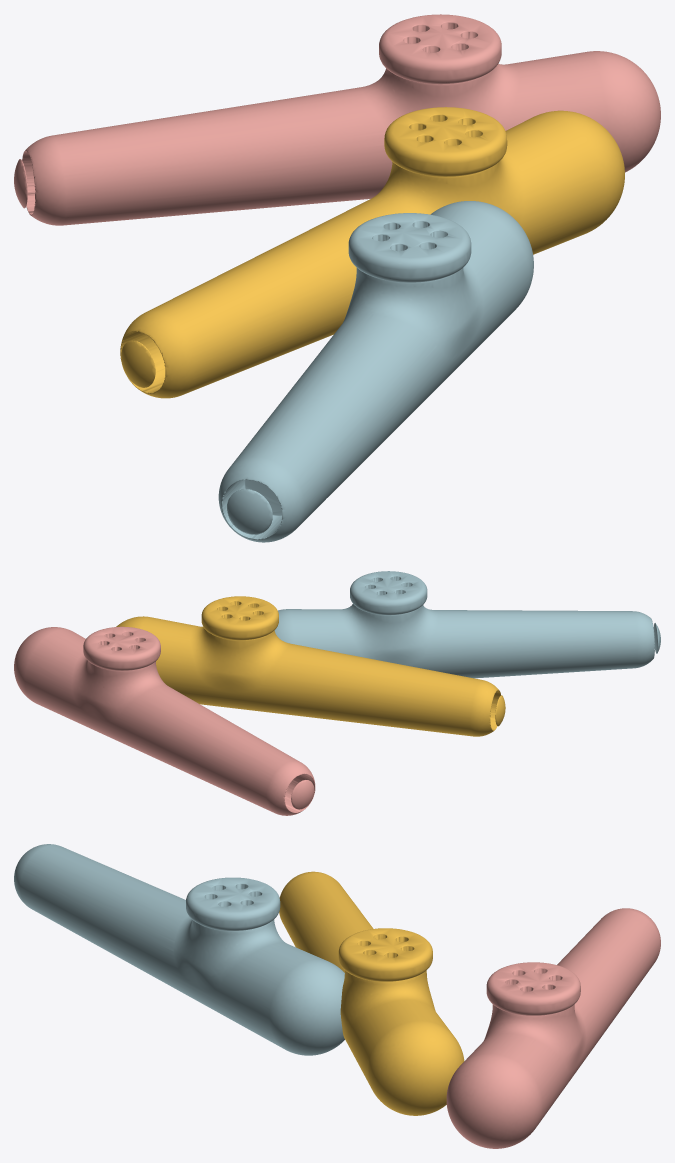
Rendered from voice-memo.glb.
3 views of the same model, one above another, from view 1: azimuth 30°, elevation 25°; view 2: azimuth 150°, elevation 25°; view 3: azimuth 270°, elevation 25° (orthographic). The views are drawn at different scales.
Visible parts, largest first — view 1: vm1-body, vm0-body, vm2-body; view 2: vm0-body, vm1-body, vm2-body; view 3: vm2-body, vm1-body, vm0-body.
Part boxes in pixels (left/top/right/bottom): vm1-body: left=14, top=14, right=660, bottom=225; vm0-body: left=120, top=107, right=624, bottom=398; vm2-body: left=218, top=201, right=533, bottom=542; vm0-body: left=116, top=596, right=505, bottom=736; vm1-body: left=14, top=626, right=315, bottom=815; vm2-body: left=274, top=571, right=660, bottom=678; vm2-body: left=14, top=844, right=344, bottom=1055; vm1-body: left=446, top=908, right=660, bottom=1148; vm0-body: left=279, top=871, right=464, bottom=1115.
Size of the model in its own units: 0.1555 by 0.031 by 0.1579.
